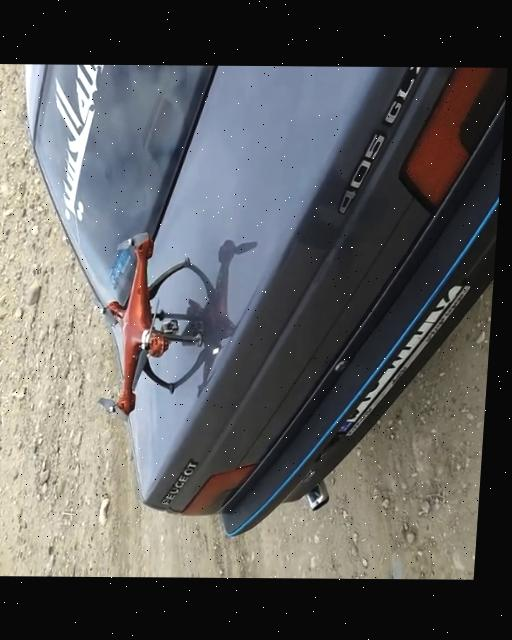drone: (91, 229, 213, 425)
